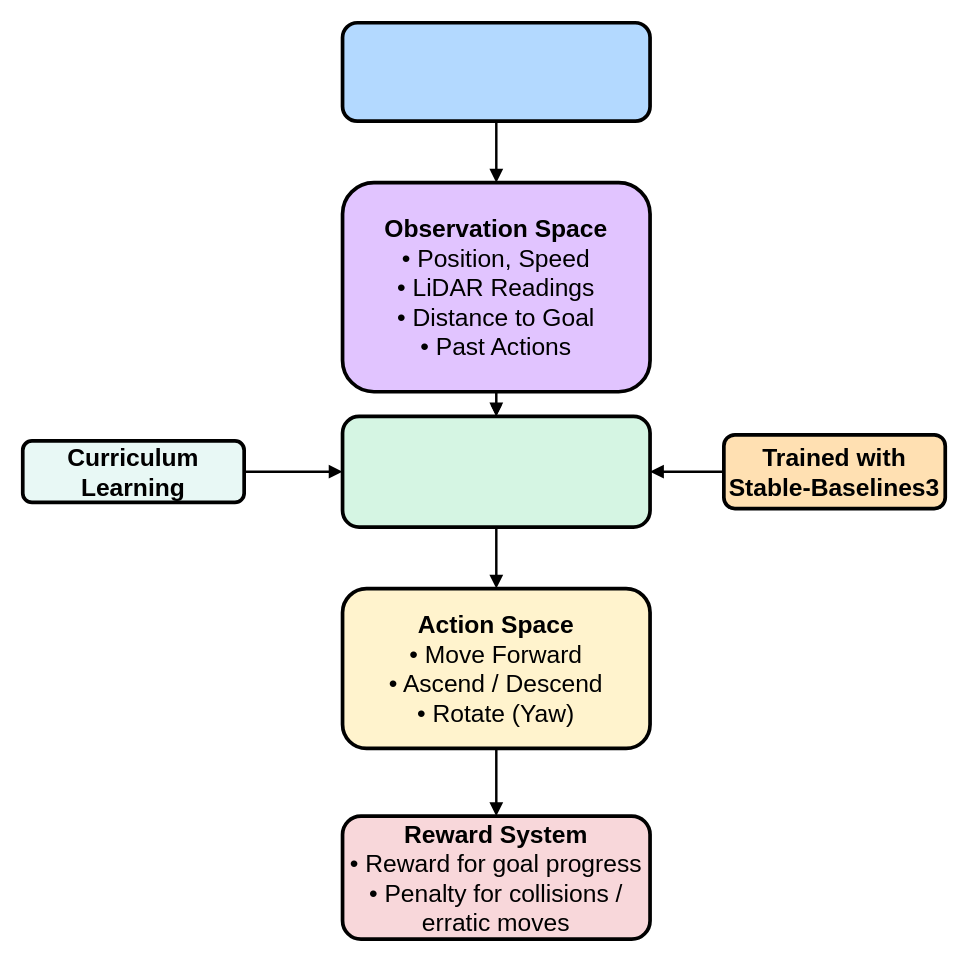
Some shapes in this 968 by 962 pixel diagram are drawn without their labels. The centre of each missing label's shape, as x and y in pixels:
Drone Environment (AirSim): pixel 495 71
PPO Policy Network (PatrolPPO): pixel 495 471
